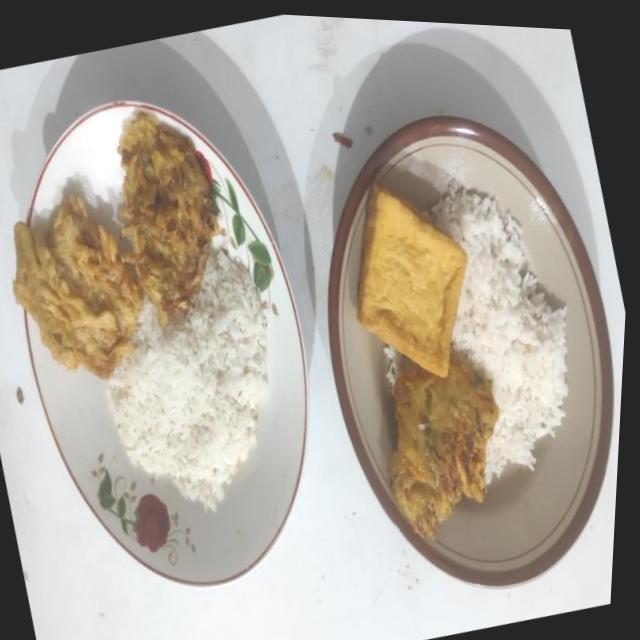nasi_putih: (104, 250, 268, 510), (430, 178, 567, 482)
tahu_goreng: (356, 184, 466, 376)
